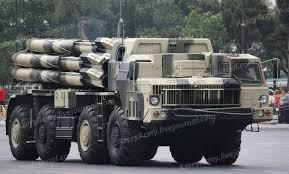MIL_SAM_TEL: (3, 36, 270, 166)
